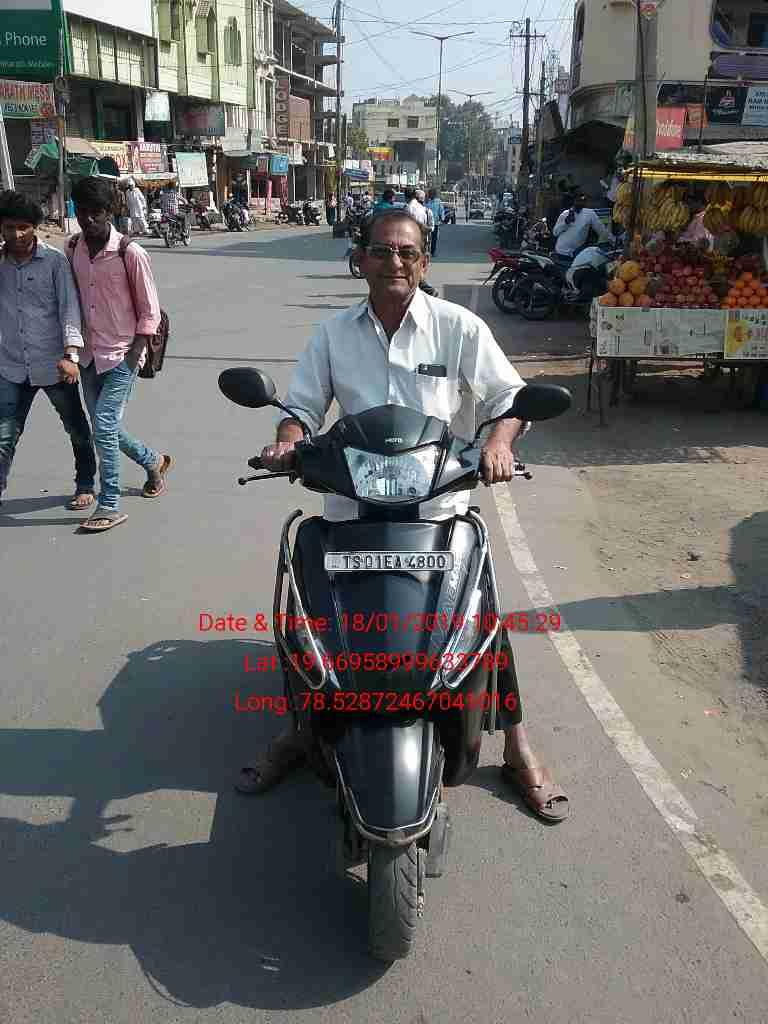plate: (319, 547, 461, 575)
